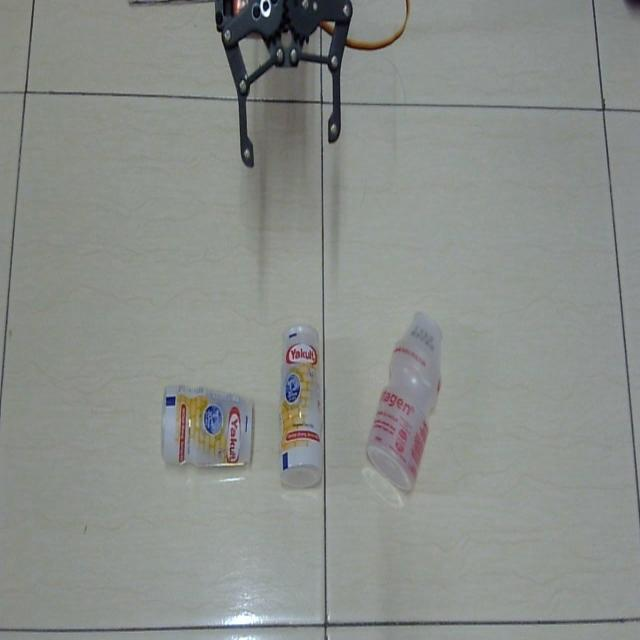Plastic-laydown_0-rotation: (276, 320, 327, 497)
Plastic-laydown_45right-rotation: (362, 304, 447, 498)
Plastic-laydown_90-rotation: (160, 378, 258, 474)
